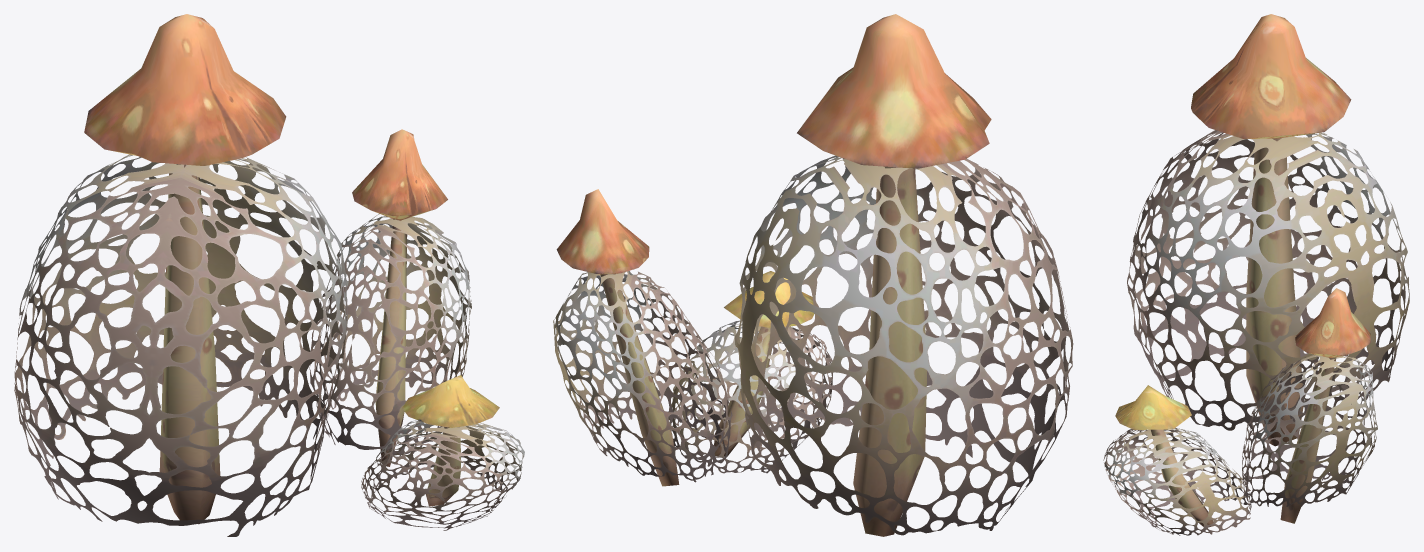
Rendered from environment_Tree_mogu_001.FBX.
3 renders of one model, left to right at view 1: azimuth 30°, elevation 25°; view 2: azimuth 150°, elevation 25°; view 3: azimuth 270°, elevation 25°, orthographic. The views are drawn at different scales.
Parts seen in each view (by area): view 1: environment_Tree_mogu_01, environment_Tree_mogu_02; view 2: environment_Tree_mogu_01, environment_Tree_mogu_02; view 3: environment_Tree_mogu_01, environment_Tree_mogu_02.
Boxes of the visible parts, bbox=[...] form: environment_Tree_mogu_01: bbox=[14, 154, 524, 536]; environment_Tree_mogu_02: bbox=[84, 14, 499, 524]; environment_Tree_mogu_01: bbox=[553, 155, 1073, 535]; environment_Tree_mogu_02: bbox=[556, 14, 991, 536]; environment_Tree_mogu_01: bbox=[1103, 130, 1409, 535]; environment_Tree_mogu_02: bbox=[1115, 14, 1370, 527].
Bounding box in the file's own units: 136 × 147 × 95.88.
2 materials, 2 textured.
